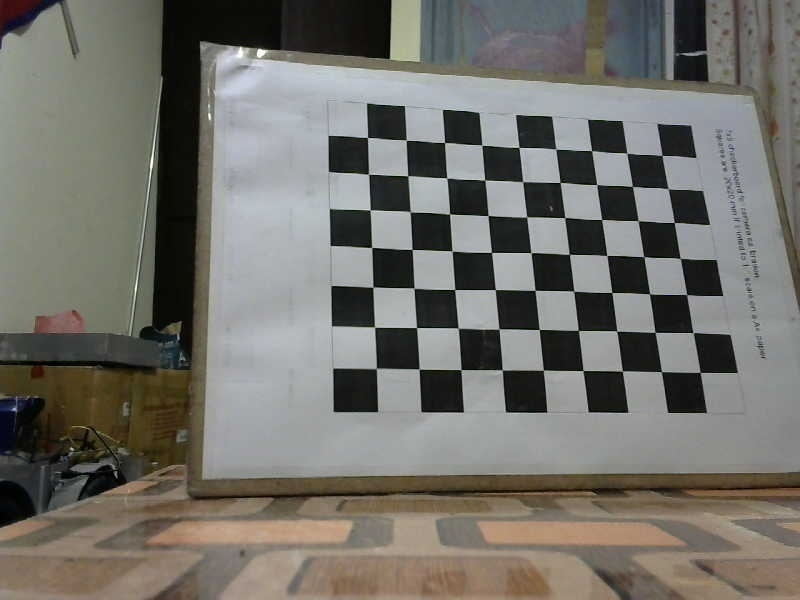block: (199, 42, 789, 488)
